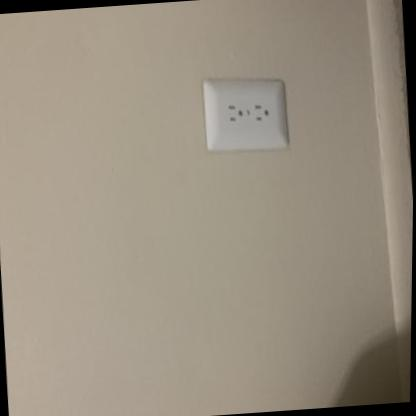OUTLET: (201, 73, 289, 155)
